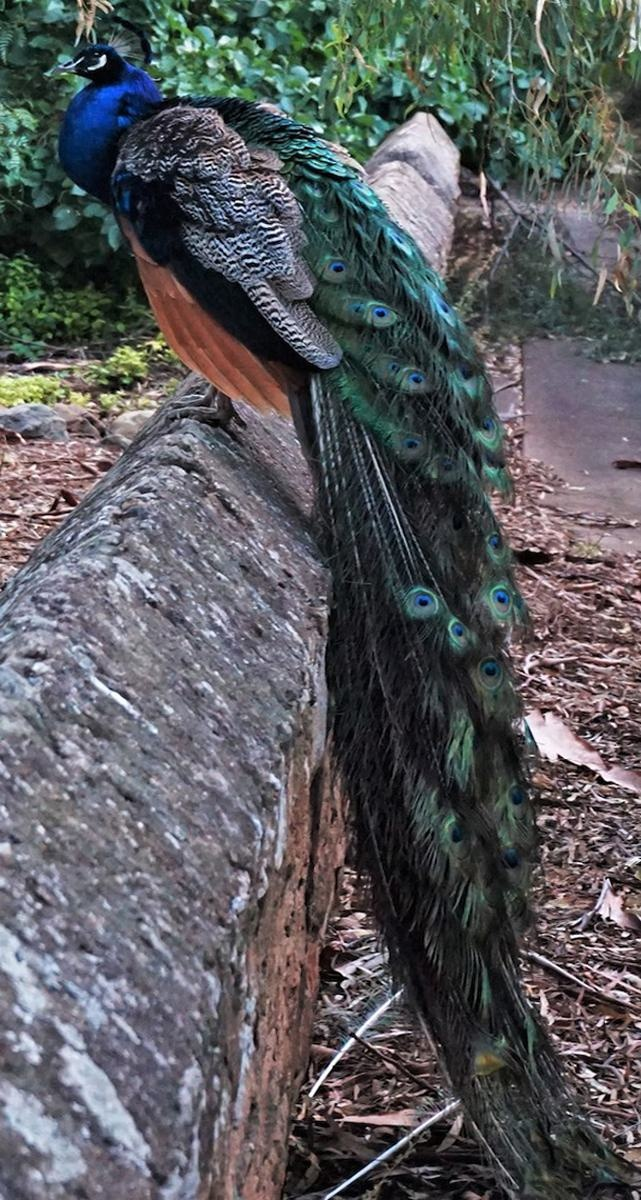peacock: (28, 34, 564, 959)
